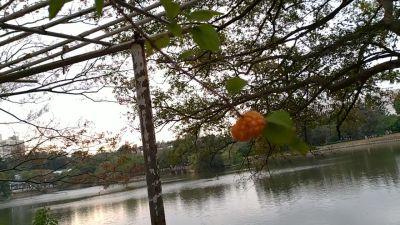eggs: (229, 110, 268, 144)
